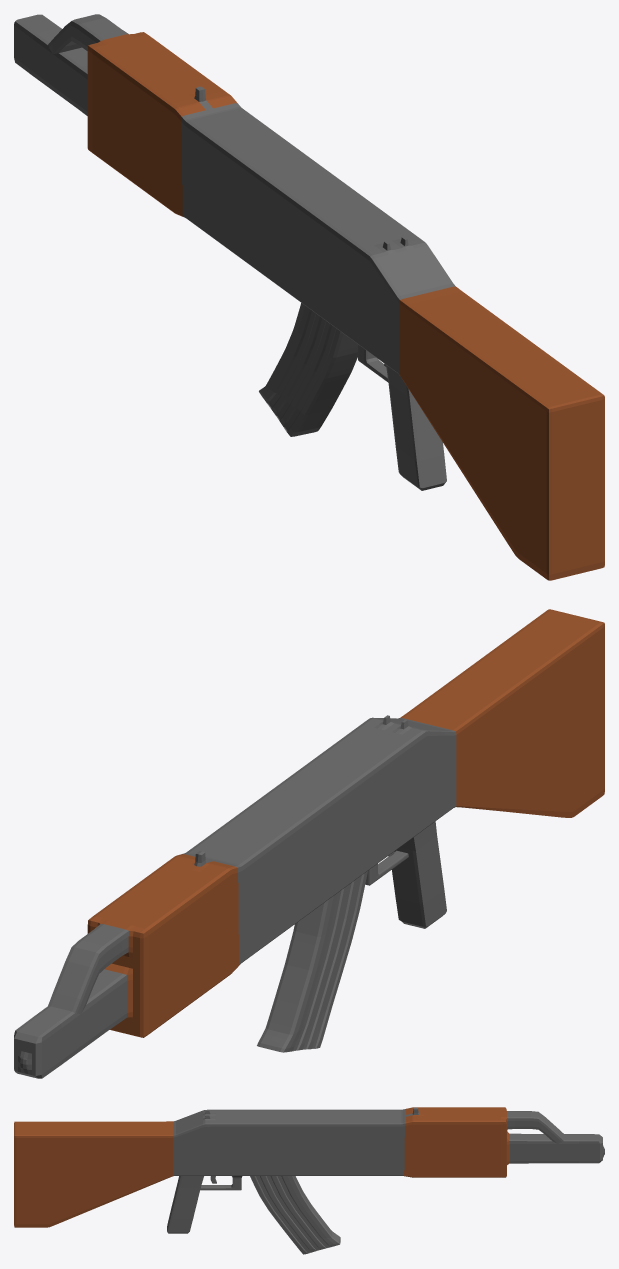
The model's file is Styled_Rifle.fbx.
The picture shows the model from 3 angles, top to bottom: view 1: azimuth 30°, elevation 25°; view 2: azimuth 150°, elevation 25°; view 3: azimuth 270°, elevation 25°; orthographic projection. The views are drawn at different scales.
Parts seen in each view (by area): view 1: Cube; view 2: Cube; view 3: Cube.
Boxes of the visible parts, box(x1,y1,x2,y2) form: Cube: box(14, 14, 604, 580); Cube: box(14, 609, 604, 1078); Cube: box(14, 1107, 604, 1254).
Size of the model in its own units: 4.54 by 20.52 by 76.6.
